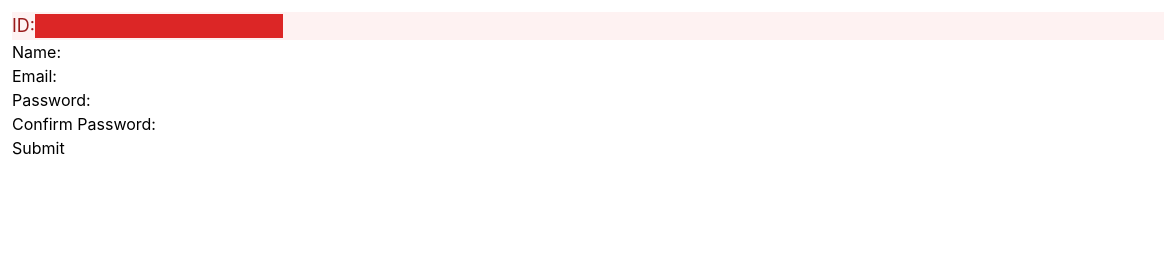
Scenario: SignupForm › displays error for empty required fields
What coordinates should you click on to do the following:
click the button "Submit"
I would click on:
 (38, 148)
Its box is [12,136,65,160].
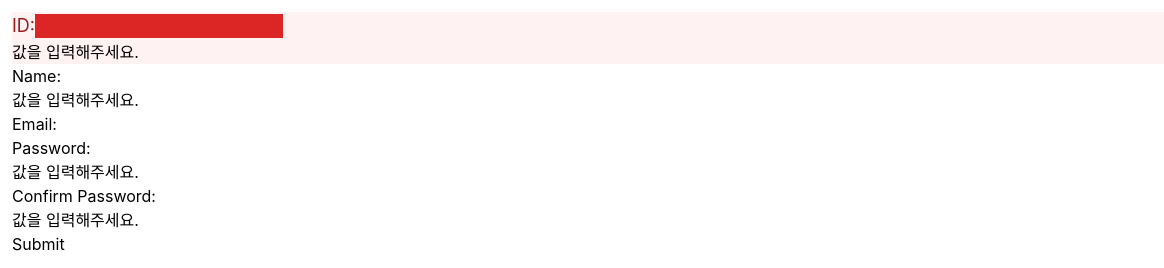
Check: the text "값을 입력해주세요." is shown 4 times, box [12,42,139,62]; [12,90,139,110]; [12,162,139,182]; [12,210,139,230]
